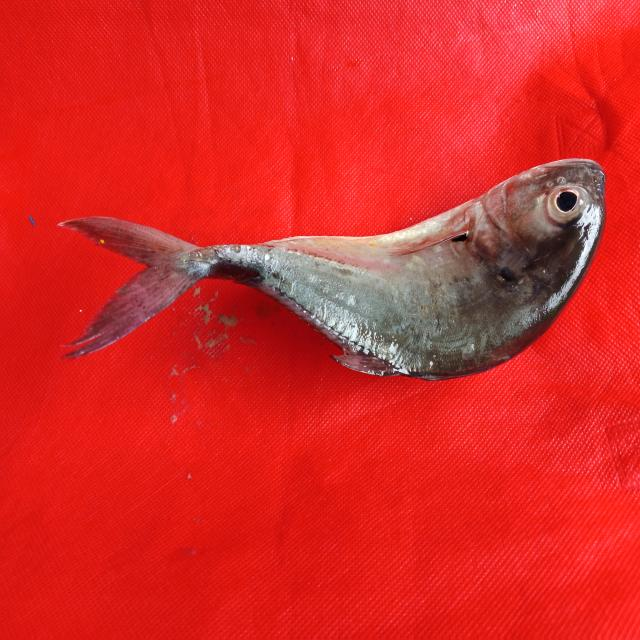ikan: (49, 133, 611, 399)
